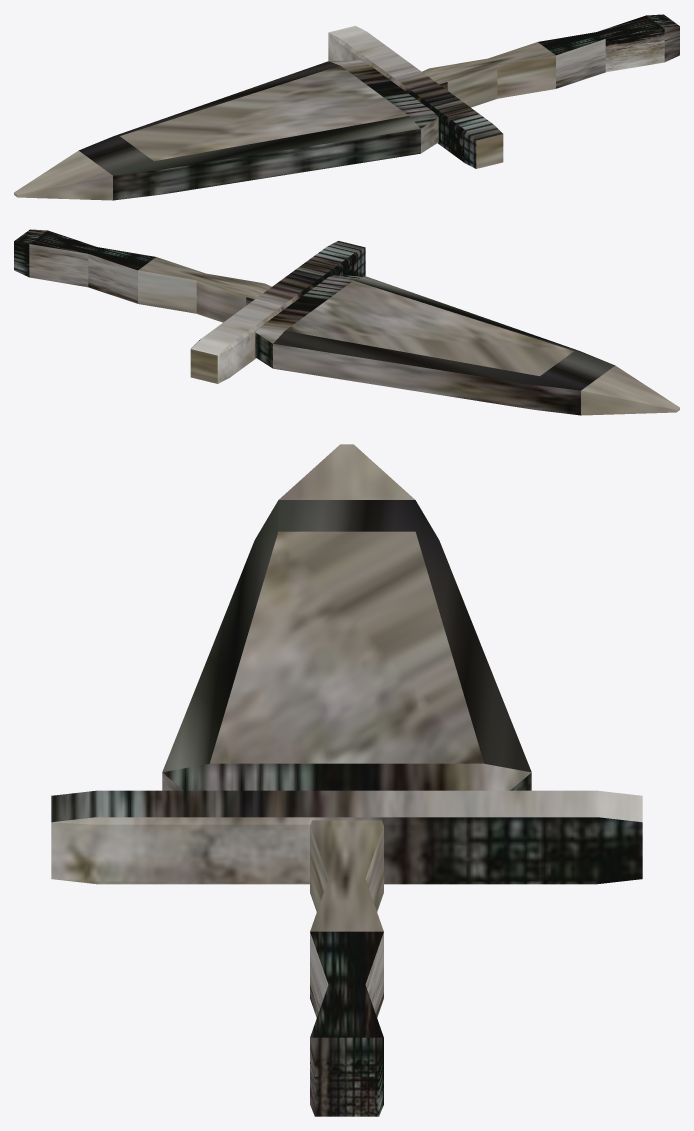
The model's file is mimita-hafs-v1.glb.
The picture shows the model from 3 angles, top to bottom: view 1: azimuth 30°, elevation 25°; view 2: azimuth 150°, elevation 25°; view 3: azimuth 270°, elevation 25°; orthographic projection. The views are drawn at different scales.
Visible parts, largest first — view 1: Cube.002; view 2: Cube.002; view 3: Cube.002.
Part boxes in pixels (box(x1,y1,x2,y2)): Cube.002: box(14, 14, 679, 200); Cube.002: box(14, 229, 679, 415); Cube.002: box(51, 444, 642, 1116).
Size of the model in its own units: 10.25 by 0.5 by 4.
1 material, 1 textured.
